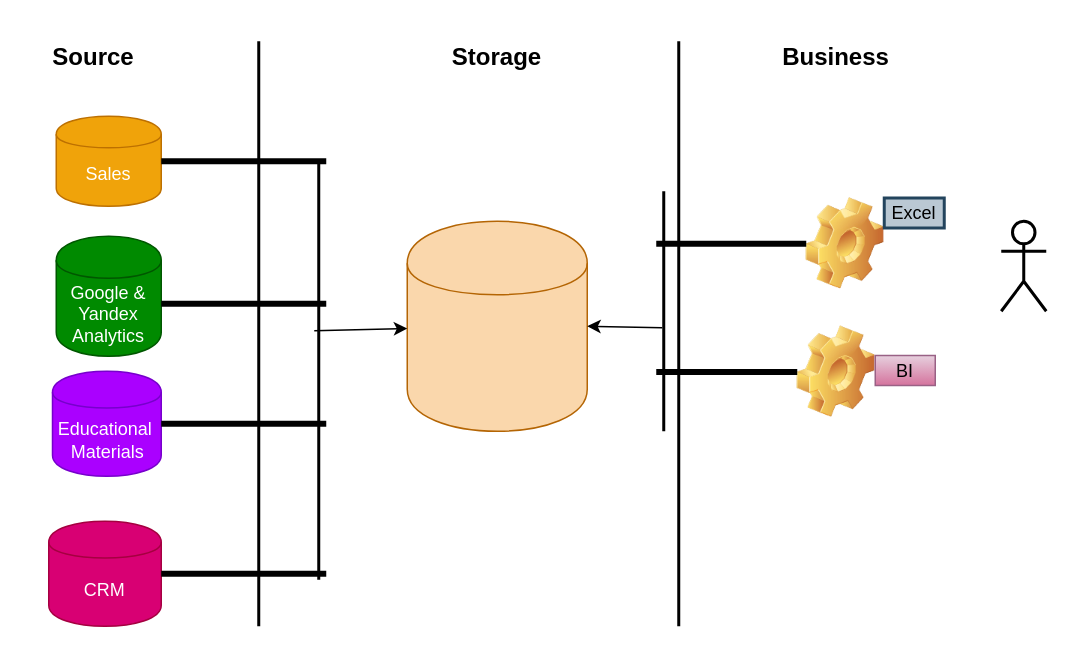
Some shapes in this 1073 by 653 pixel diagram are drawn without their labels. The centre of each missing label's shape, as x and y in pixels:
DATA WAREHOUSE: point 496,325
User: point 1023,265
